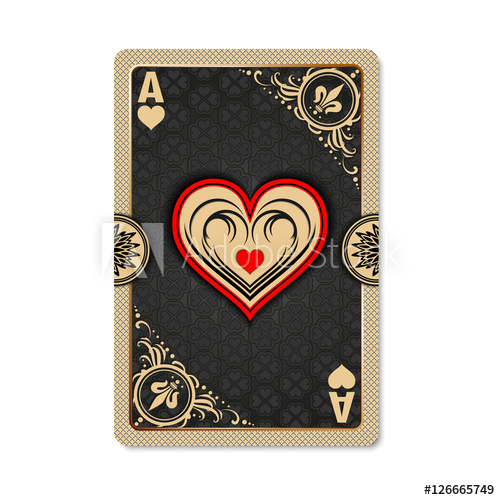ace of hearts: (115, 49, 378, 444)
